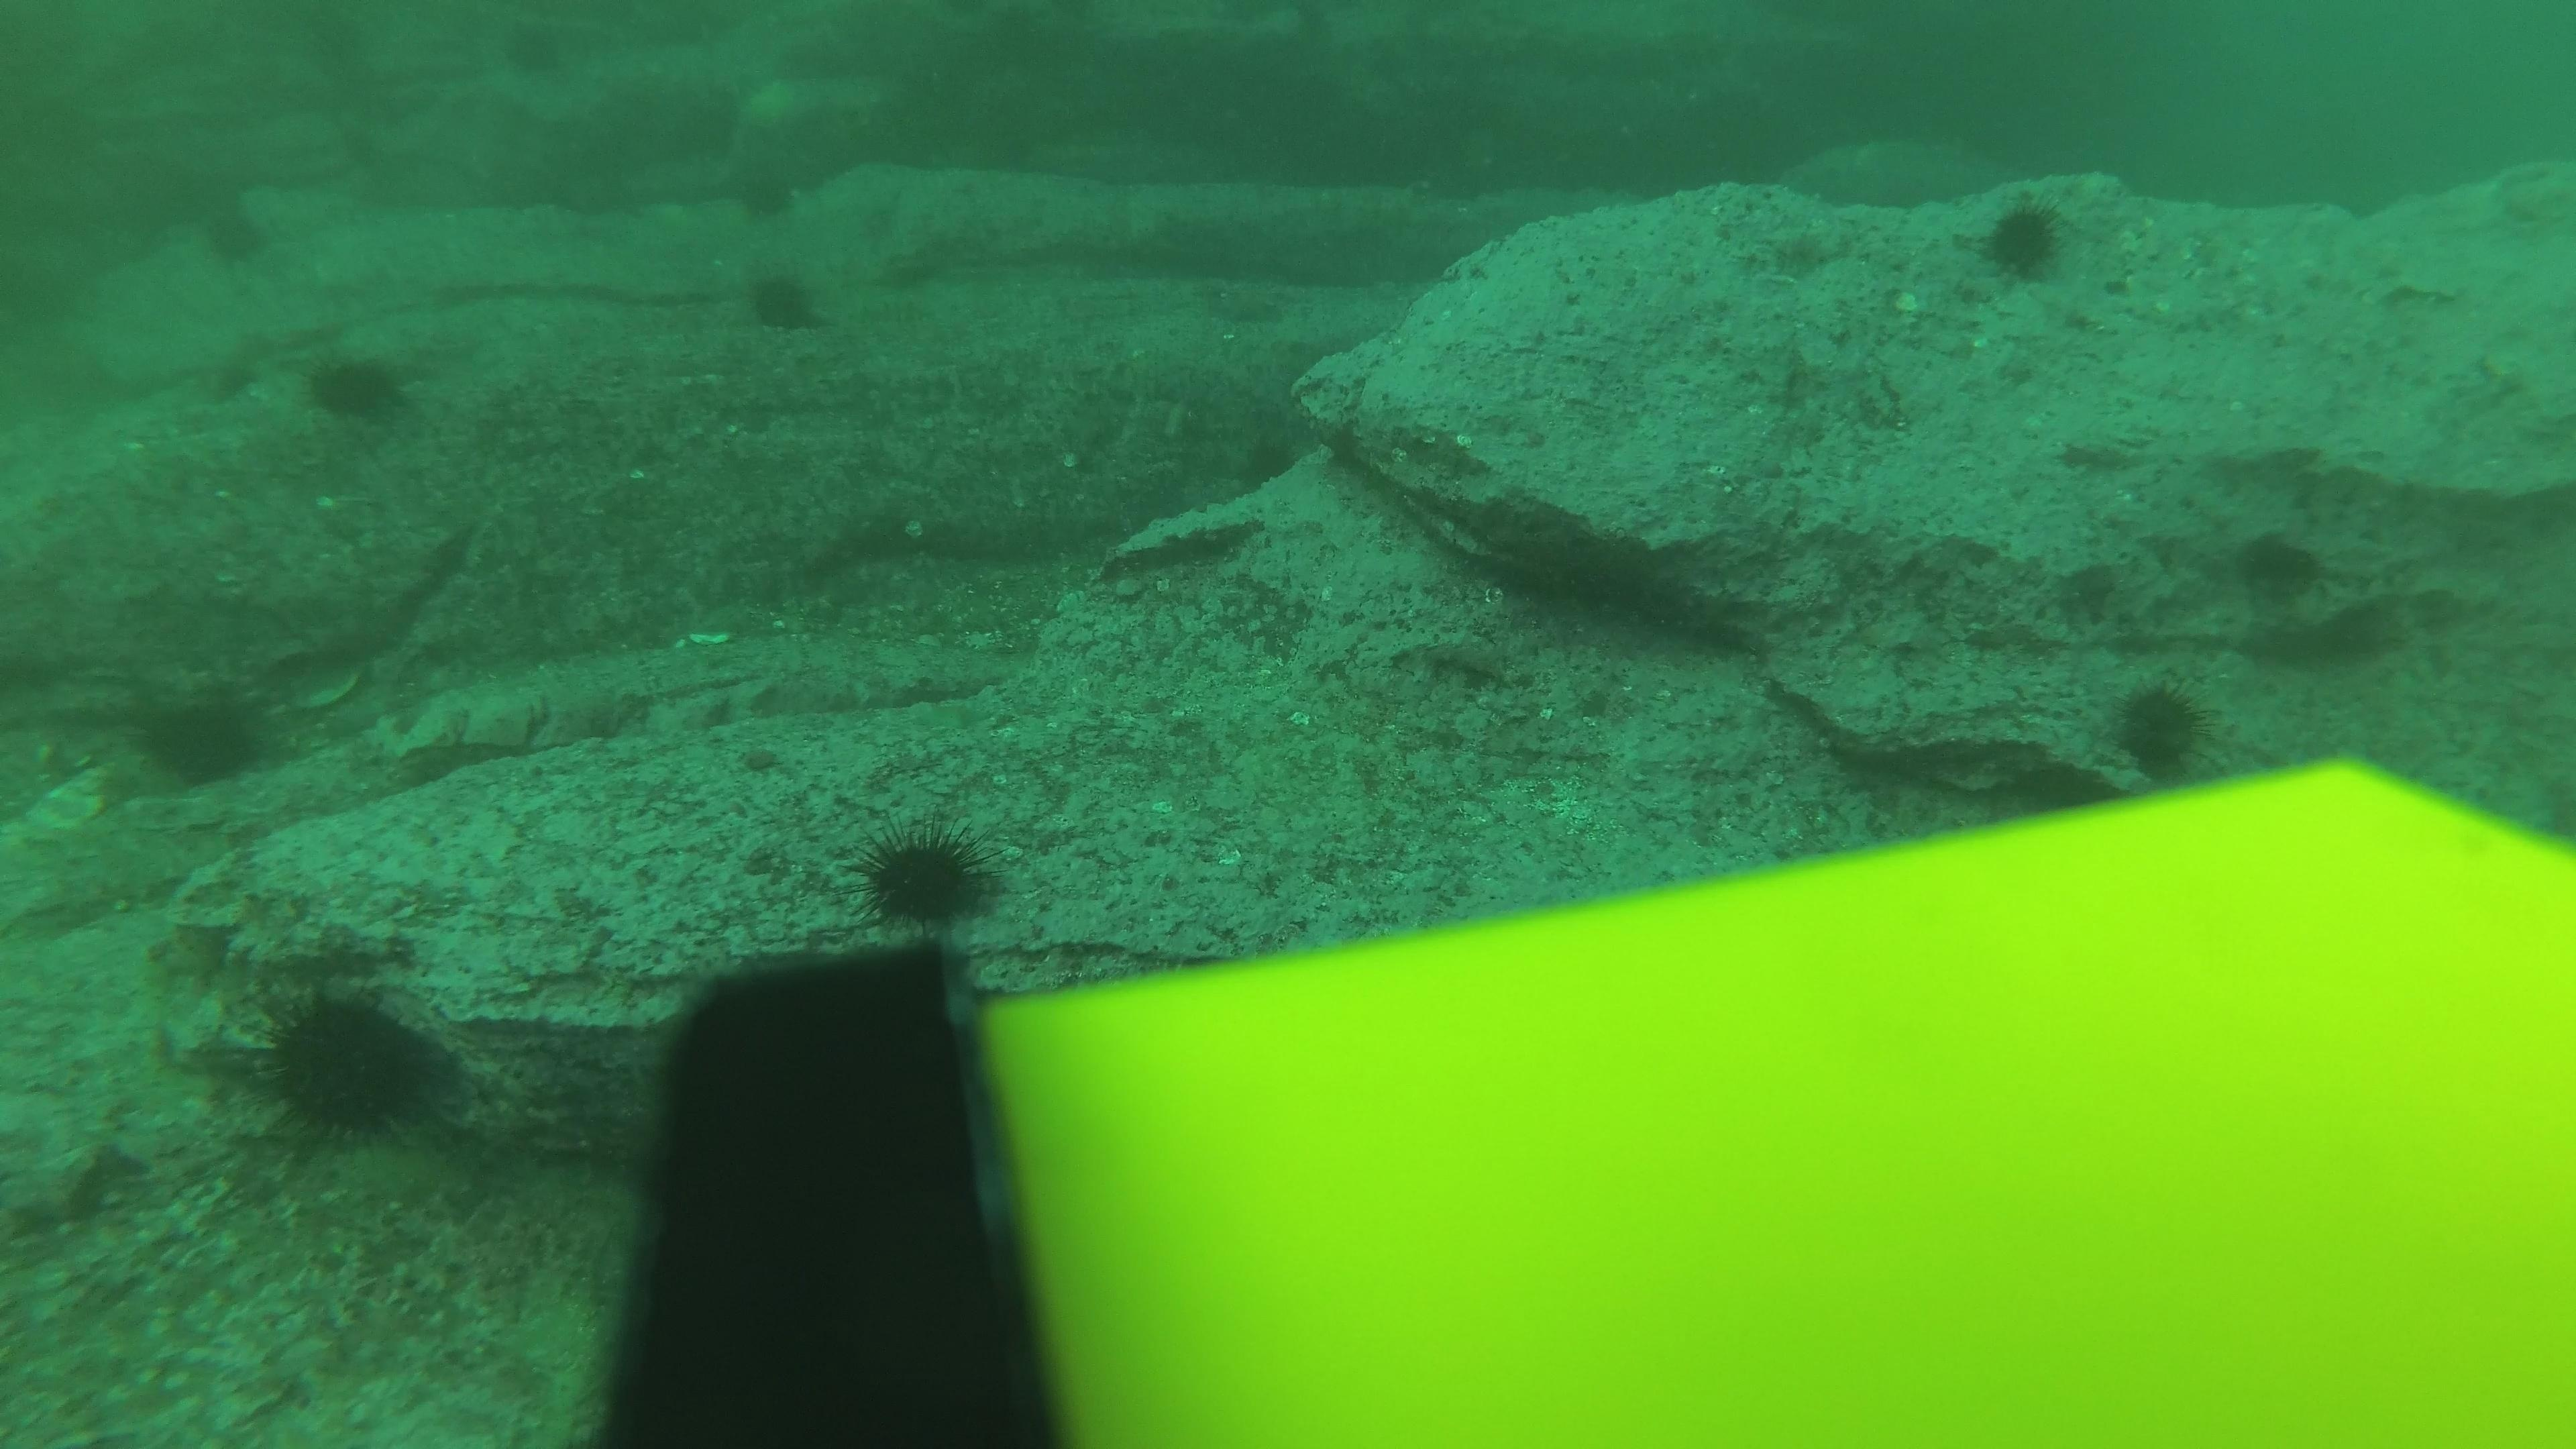echinus: (249, 982, 453, 1146), (127, 676, 278, 793), (851, 819, 1000, 934), (2100, 672, 2224, 782), (1967, 191, 2079, 288), (299, 343, 414, 428), (2227, 525, 2330, 607), (738, 260, 830, 338), (729, 159, 803, 226), (200, 207, 267, 264), (502, 25, 568, 81)
